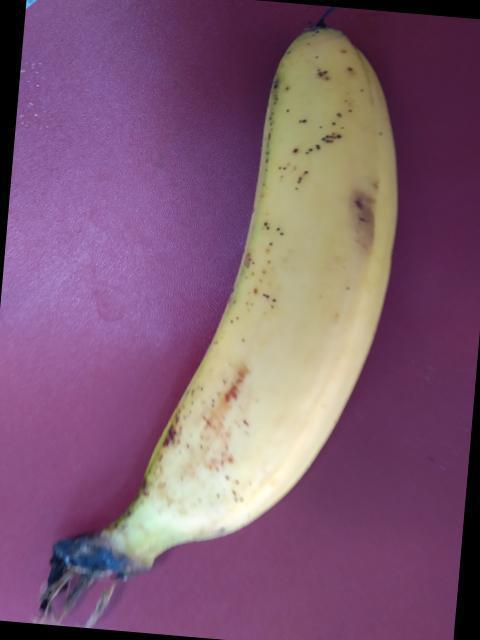ripe: (116, 27, 406, 543)
